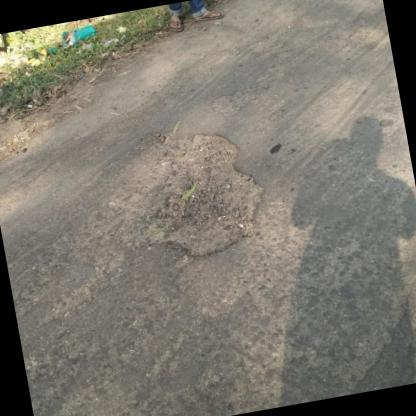pothole: (125, 117, 276, 269), (209, 88, 250, 119)
